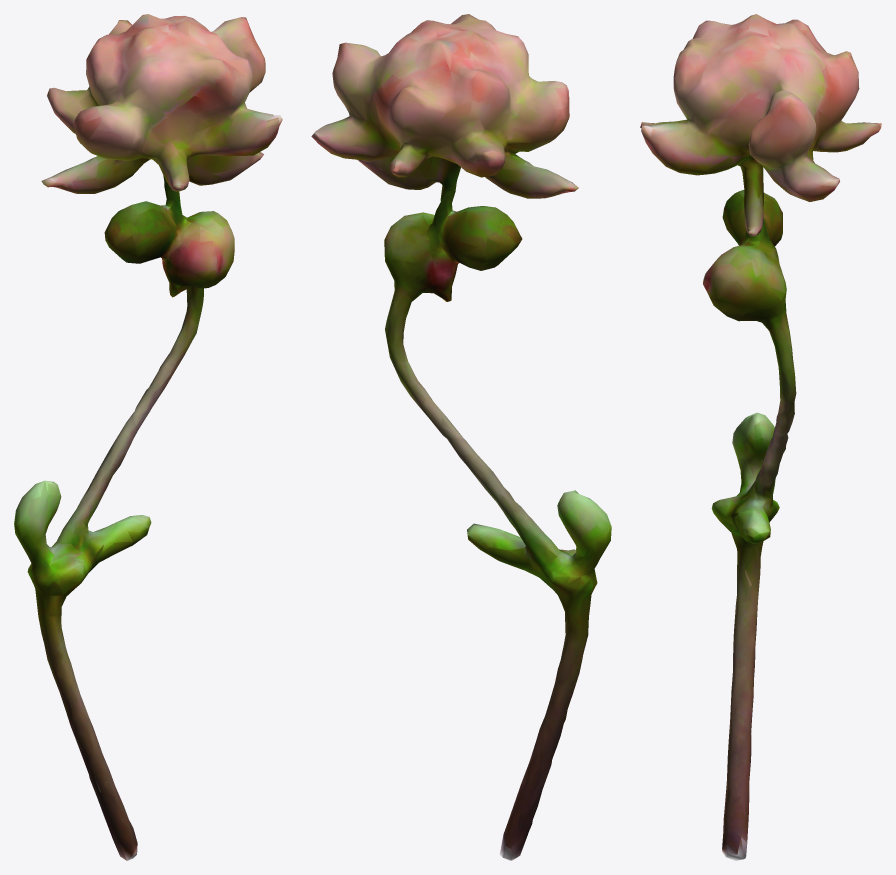
File: flower7.glb
3 renders of one model, left to right at view 1: azimuth 30°, elevation 25°; view 2: azimuth 150°, elevation 25°; view 3: azimuth 270°, elevation 25°, orthographic. The views are drawn at different scales.
Parts seen in each view (by area): view 1: flower7; view 2: flower7; view 3: flower7.
Boxes of the visible parts, <box> form: flower7: <box>14,14,282,860</box>; flower7: <box>311,14,611,860</box>; flower7: <box>640,14,881,860</box>.
Bounding box in the file's own units: 0.5675 × 1.74 × 0.4416.
Materials: 1 (1 with a texture image).
